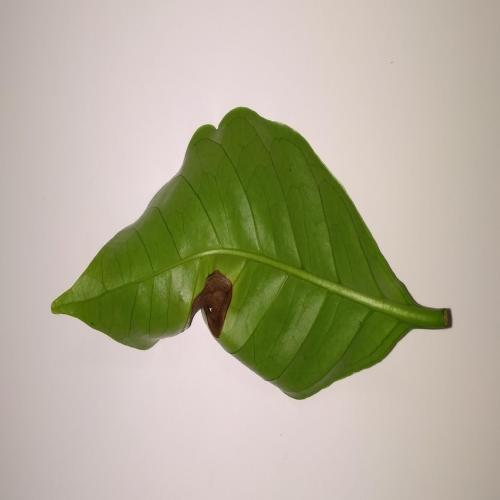miner: (187, 271, 232, 342)
